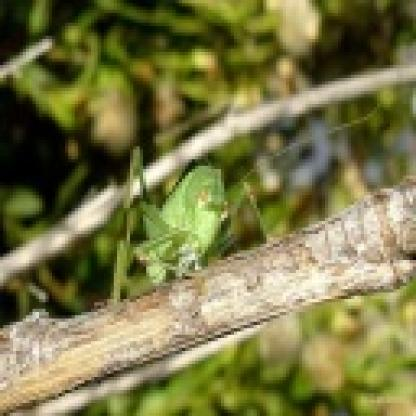grasshopper: (102, 146, 284, 289)
